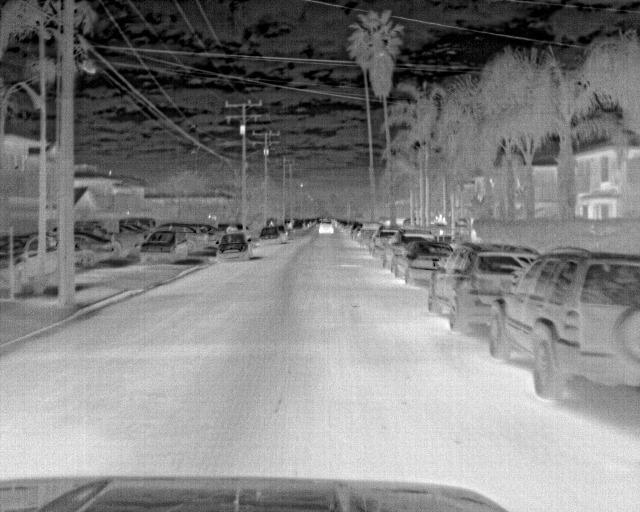car: (488, 246, 638, 404), (448, 249, 538, 335), (430, 244, 483, 314), (406, 238, 455, 286), (76, 225, 135, 259), (388, 226, 427, 269), (139, 226, 190, 258), (12, 230, 39, 288), (76, 233, 114, 265), (211, 234, 251, 260), (258, 224, 291, 247), (0, 233, 12, 295), (372, 226, 401, 250), (358, 222, 379, 243), (317, 219, 335, 235)
